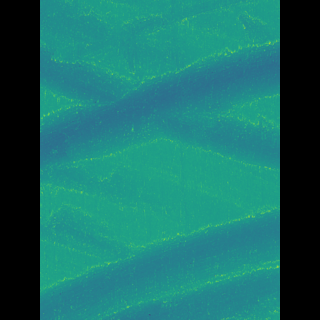Loch: (70, 36, 250, 185), (69, 206, 250, 320)
